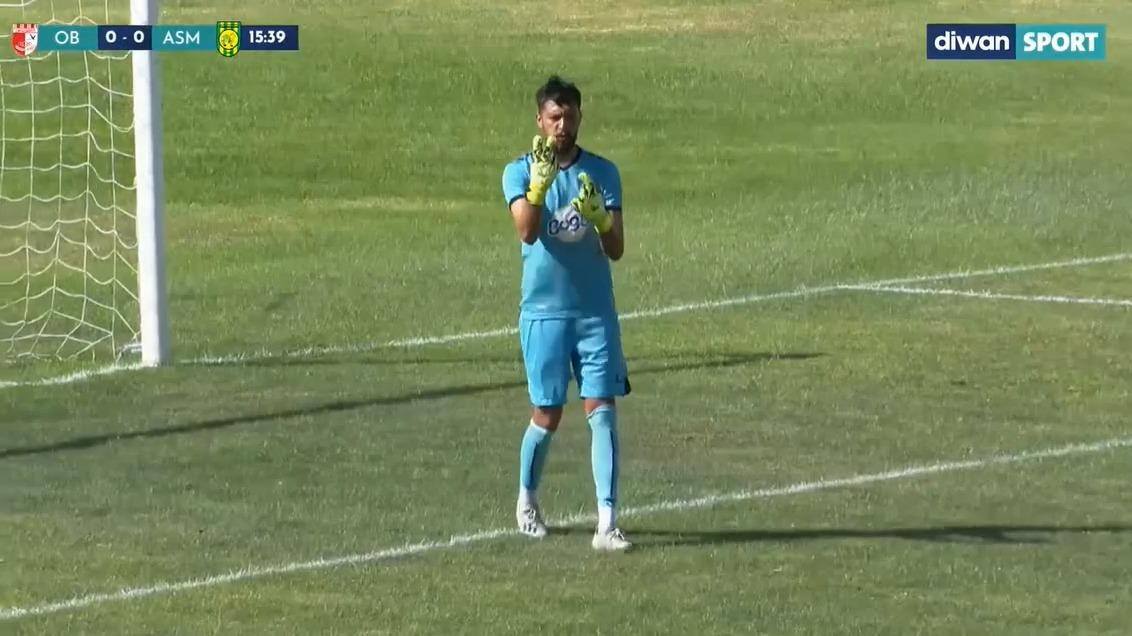goalkeeper: (477, 49, 665, 580)
